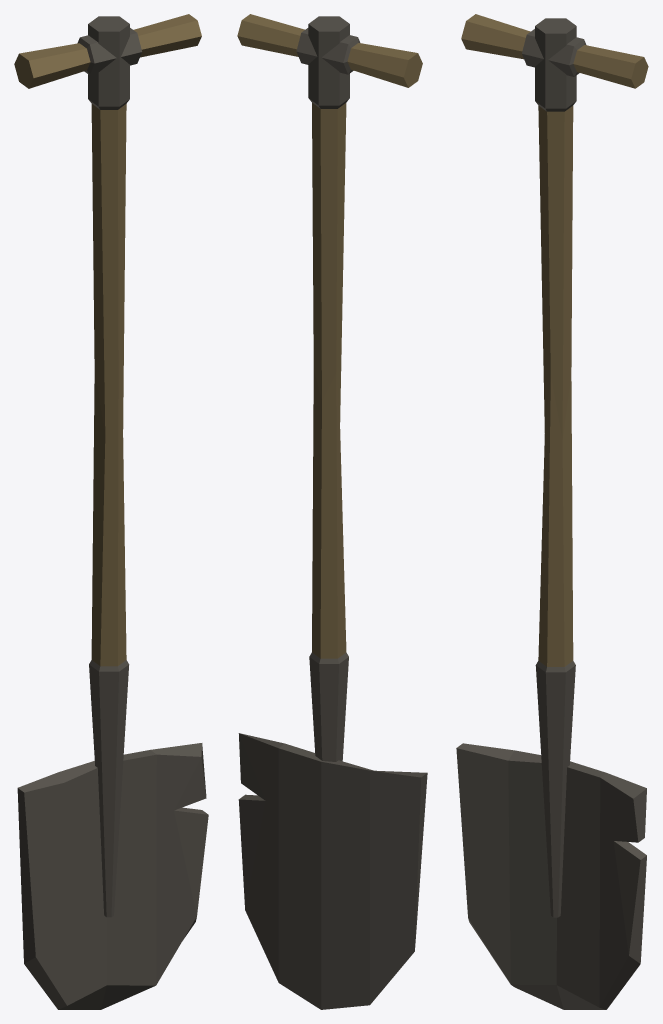
The model's file is Shovel.fbx.
3 renders of one model, left to right at view 1: azimuth 30°, elevation 25°; view 2: azimuth 150°, elevation 25°; view 3: azimuth 330°, elevation 25°, orthographic.
Parts seen in each view (by area): view 1: Shovel; view 2: Shovel; view 3: Shovel.
Boxes of the visible parts, x1=… form: Shovel: x1=14, y1=14, x2=208, y2=1009; Shovel: x1=237, y1=14, x2=427, y2=1009; Shovel: x1=456, y1=14, x2=648, y2=1009.
Bounding box in the file's own units: 31.2 × 160 × 6.15.
